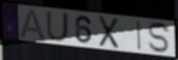6: (74, 14, 93, 45)
A: (19, 8, 47, 42)
I: (136, 19, 142, 52)
S: (147, 21, 172, 54)
U: (45, 10, 71, 44)
X: (97, 14, 120, 50)
